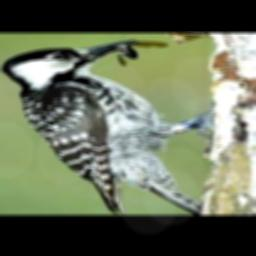Woodpecker: (4, 38, 217, 214)
